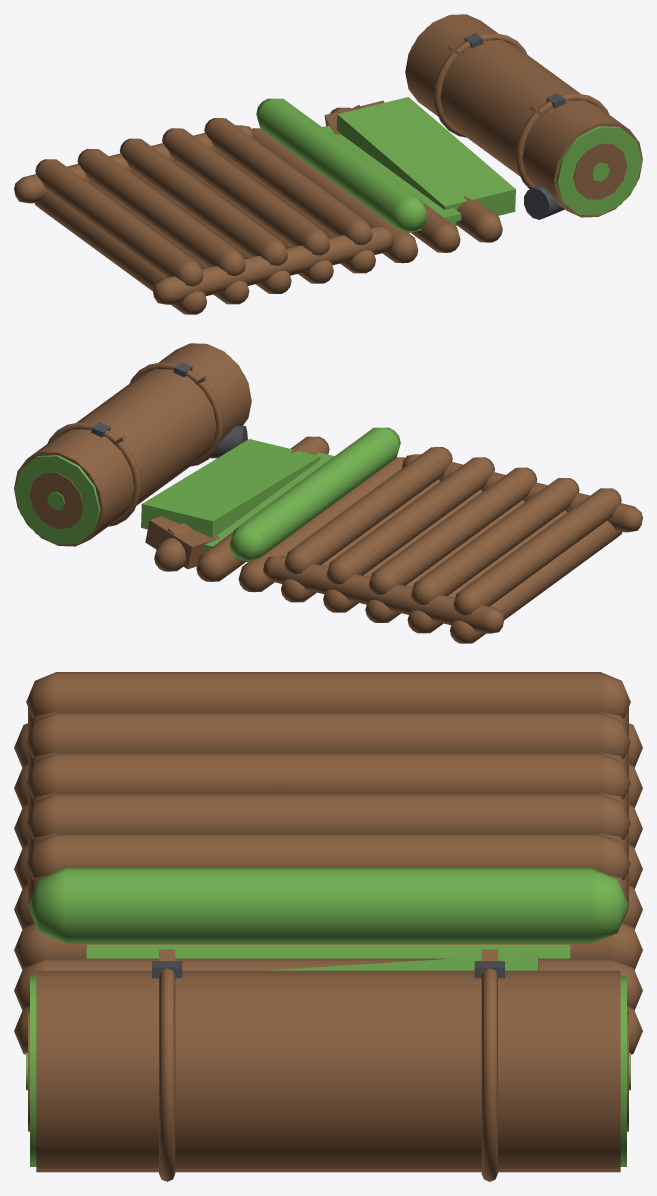
File: bedroll.glb
3 renders of one model, top to bottom at view 1: azimuth 30°, elevation 25°; view 2: azimuth 150°, elevation 25°; view 3: azimuth 270°, elevation 25°, orthographic. The views are drawn at different scales.
Parts seen in each view (by area): view 1: Mesh_BlanketRoll, Mesh_Pillow, Mesh_CollarMain, Mesh_CoverSeg_3, Mesh_CoverSeg_2, Mesh_CoverSeg_0, Mesh_CoverSeg_1, Mesh_CoverSeg_4, Mesh_RollEndR, Mesh_MatSeg_0, Mesh_MatSeg_5, Mesh_RollInnerR (+16 smaller); view 2: Mesh_BlanketRoll, Mesh_Pillow, Mesh_CollarMain, Mesh_CoverSeg_3, Mesh_CoverSeg_2, Mesh_CoverSeg_0, Mesh_CoverSeg_1, Mesh_CoverSeg_4, Mesh_RollEndL, Mesh_MatSeg_0, Mesh_MatSeg_5, Mesh_RollInnerL (+17 smaller); view 3: Mesh_BlanketRoll, Mesh_CollarMain, Mesh_CoverSeg_0, Mesh_CoverSeg_2, Mesh_CoverSeg_3, Mesh_CoverSeg_1, Mesh_CoverSeg_4, Mesh_InsideLining, Mesh_MatSeg_6, Mesh_MatSeg_5, Mesh_StrapL, Mesh_StrapR (+9 smaller).
Boxes of the visible parts, x1=… form: Mesh_BlanketRoll: x1=405, y1=14, x2=642, y2=217; Mesh_Pillow: x1=336, y1=97, x2=515, y2=226; Mesh_CollarMain: x1=256, y1=98, x2=427, y2=231; Mesh_CoverSeg_3: x1=162, y1=128, x2=330, y2=255; Mesh_CoverSeg_2: x1=119, y1=138, x2=287, y2=265; Mesh_CoverSeg_0: x1=35, y1=159, x2=203, y2=286; Mesh_CoverSeg_1: x1=77, y1=149, x2=245, y2=275; Mesh_CoverSeg_4: x1=204, y1=118, x2=372, y2=244; Mesh_RollEndR: x1=556, y1=126, x2=642, y2=215; Mesh_MatSeg_0: x1=34, y1=191, x2=206, y2=314; Mesh_MatSeg_5: x1=252, y1=128, x2=418, y2=263; Mesh_RollInnerR: x1=573, y1=143, x2=627, y2=199; Mesh_BlanketRoll: x1=14, y1=343, x2=251, y2=546; Mesh_Pillow: x1=141, y1=439, x2=320, y2=537; Mesh_CollarMain: x1=229, y1=427, x2=400, y2=560; Mesh_CoverSeg_3: x1=326, y1=457, x2=494, y2=584; Mesh_CoverSeg_2: x1=369, y1=467, x2=537, y2=594; Mesh_CoverSeg_0: x1=453, y1=488, x2=621, y2=615; Mesh_CoverSeg_1: x1=411, y1=478, x2=579, y2=604; Mesh_CoverSeg_4: x1=284, y1=447, x2=452, y2=573; Mesh_RollEndL: x1=14, y1=455, x2=100, y2=544; Mesh_MatSeg_0: x1=450, y1=520, x2=622, y2=643; Mesh_MatSeg_5: x1=238, y1=457, x2=404, y2=592; Mesh_RollInnerL: x1=29, y1=472, x2=83, y2=528; Mesh_BlanketRoll: x1=36, y1=970, x2=620, y2=1172; Mesh_CollarMain: x1=28, y1=868, x2=628, y2=943; Mesh_CoverSeg_0: x1=26, y1=672, x2=630, y2=718; Mesh_CoverSeg_2: x1=26, y1=753, x2=630, y2=799; Mesh_CoverSeg_3: x1=26, y1=793, x2=630, y2=839; Mesh_CoverSeg_1: x1=26, y1=712, x2=630, y2=758; Mesh_CoverSeg_4: x1=26, y1=834, x2=630, y2=880; Mesh_InsideLining: x1=86, y1=944, x2=570, y2=958; Mesh_MatSeg_6: x1=14, y1=958, x2=642, y2=1010; Mesh_MatSeg_5: x1=14, y1=923, x2=642, y2=969; Mesh_StrapL: x1=481, y1=962, x2=497, y2=1181; Mesh_StrapR: x1=159, y1=962, x2=175, y2=1181.
Size of the model in its own units: 1.1 by 0.22 by 0.624.
